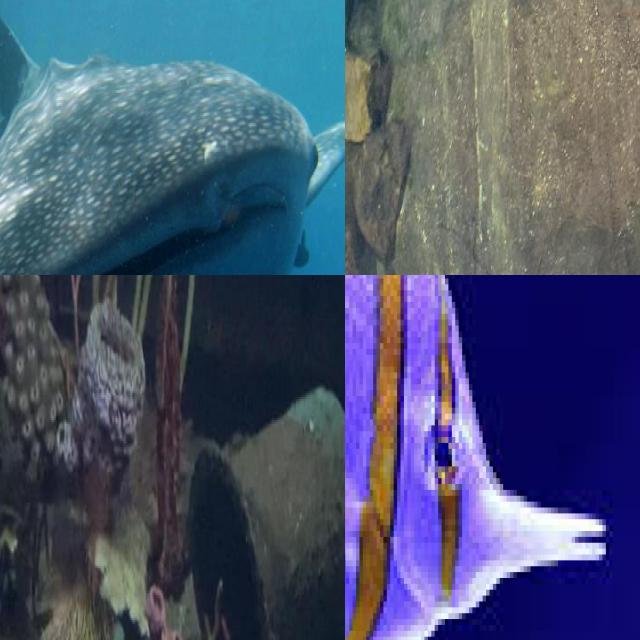fish: (0, 0, 345, 275), (345, 275, 640, 545)
